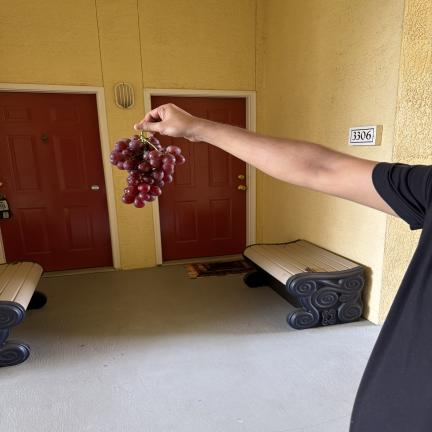grape_cluster: (109, 131, 185, 208)
